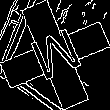M_SE: (24, 23, 86, 87)
